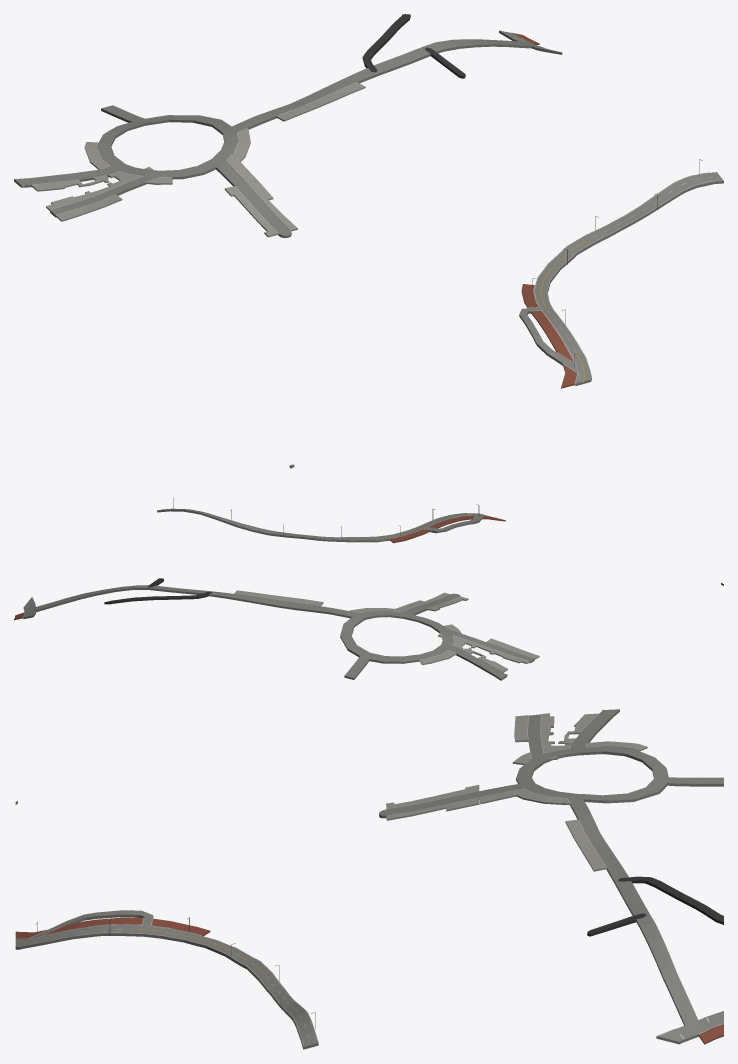
The model's file is 17-109454-59475.abb5f992.glb.
3 views of the same model, one above another, from view 1: azimuth 30°, elevation 25°; view 2: azimuth 150°, elevation 25°; view 3: azimuth 270°, elevation 25° (orthographic). The views are drawn at different scales.
Bounding box in the file's own units: 294 × 55.69 × 292.
